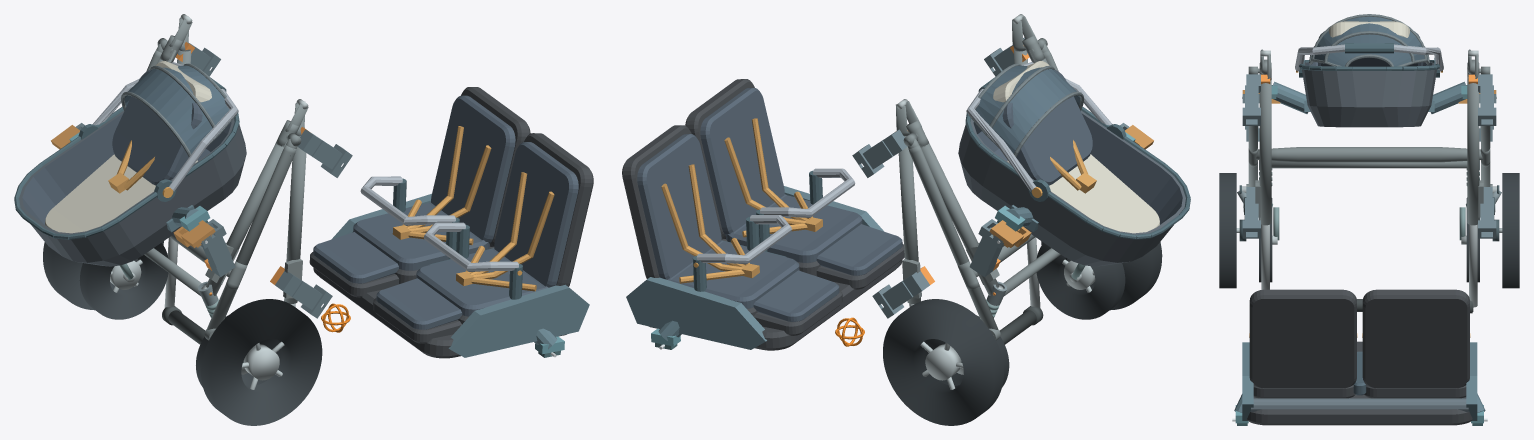
The model's file is D25_w650_state3_wheel_M.glb.
3 views of the same model, side by side, from view 1: azimuth 30°, elevation 25°; view 2: azimuth 150°, elevation 25°; view 3: azimuth 270°, elevation 25° (orthographic). The views are drawn at different scales.
Visible parts, largest first — view 1: D25_Upper, D25_Lower, RL_tire.011, FR_tire.011, V46_rear_leg_-1.011, main_lower_-1.012, RR_tire.011, main_upper_-1.012, Universal_Cabin_Receiver_H_-1, Universal_Cabin_Receiver_M_-1, Universal_Cabin_Receiver_L_-1, RL_sealed_hub.011 (+8 smaller); view 2: D25_Upper, D25_Lower, RR_tire.011, FL_tire.011, V46_rear_leg_1.011, main_lower_1.012, RL_tire.011, main_upper_1.012, Universal_Cabin_Receiver_H_1, Universal_Cabin_Receiver_M_1, Universal_Cabin_Receiver_L_1, RR_sealed_hub.011 (+9 smaller); view 3: D25_Upper, D25_Lower, V46_rearbar.011, RL_tire.011, RR_tire.011, main_upper_1.012, main_upper_-1.012, D25_Lower_Mount_L, front_fixed_round_tube.011, Universal_Cabin_Receiver_M_1, Universal_Cabin_Receiver_M_-1, Universal_Cabin_Receiver_H_1 (+8 smaller).
Part boxes in pixels (x1,y1,x2,y2): D25_Upper: (309,87,593,358); D25_Lower: (14,61,246,266); RL_tire.011: (201,299,322,425); FR_tire.011: (79,243,168,319); V46_rear_leg_-1.011: (207,145,296,329); main_lower_-1.012: (206,141,287,295); RR_tire.011: (43,241,163,310); main_upper_-1.012: (284,136,306,303); Universal_Cabin_Receiver_H_-1: (275,271,332,318); Universal_Cabin_Receiver_M_-1: (297,129,352,177); Universal_Cabin_Receiver_L_-1: (200,219,235,277); RL_sealed_hub.011: (243,344,279,380); D25_Upper: (622,79,904,350); D25_Lower: (958,61,1190,266); RR_tire.011: (883,299,1003,425); FL_tire.011: (1036,243,1125,319); V46_rear_leg_1.011: (908,145,997,329); main_lower_1.012: (917,141,999,295); RL_tire.011: (1041,241,1162,310); main_upper_1.012: (898,136,920,303); Universal_Cabin_Receiver_H_1: (872,271,929,318); Universal_Cabin_Receiver_M_1: (852,129,907,177); Universal_Cabin_Receiver_L_1: (969,219,1004,277); RR_sealed_hub.011: (925,344,961,380); D25_Upper: (1242,289,1477,425); D25_Lower: (1295,14,1443,127); V46_rearbar.011: (1256,147,1482,162); RL_tire.011: (1219,173,1236,288); RR_tire.011: (1502,173,1519,288); main_upper_1.012: (1467,80,1479,225); main_upper_-1.012: (1259,80,1271,225); D25_Lower_Mount_L: (1271,81,1467,113); front_fixed_round_tube.011: (1271,161,1467,168); Universal_Cabin_Receiver_M_1: (1478,74,1496,125); Universal_Cabin_Receiver_M_-1: (1242,74,1260,125); Universal_Cabin_Receiver_H_1: (1478,187,1496,238).
Bounding box in the file's own units: 1.34 × 0.7943 × 0.781.
